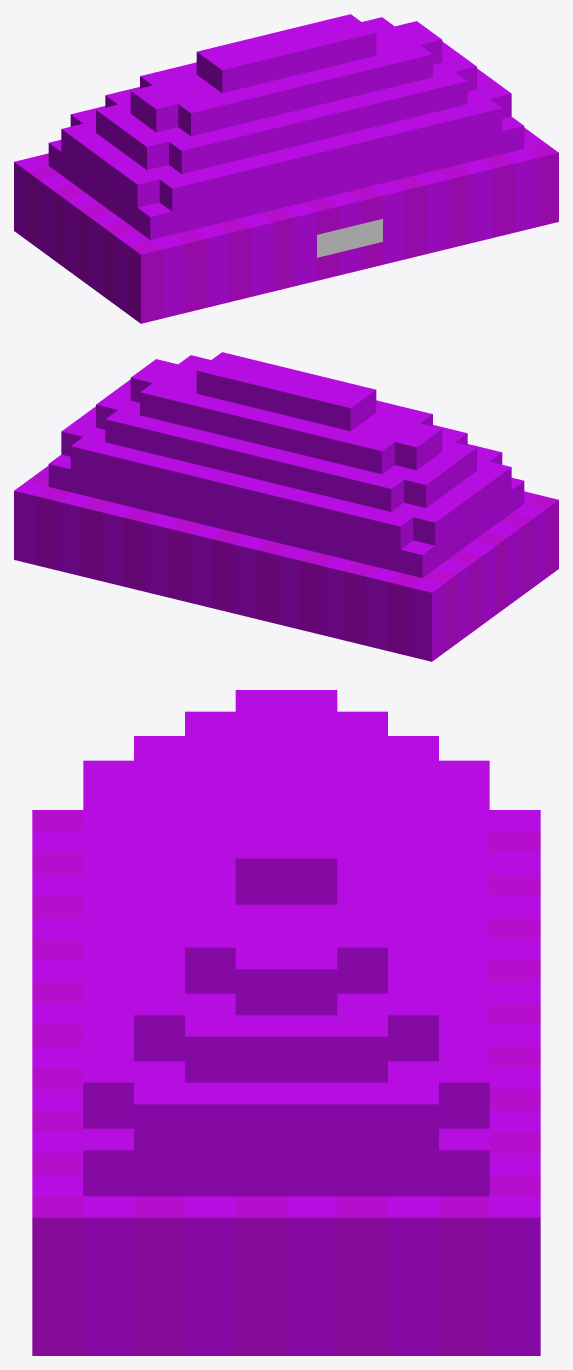
File: accessories_head_beanie.glb
The picture shows the model from 3 angles, top to bottom: view 1: azimuth 30°, elevation 25°; view 2: azimuth 150°, elevation 25°; view 3: azimuth 270°, elevation 25°; orthographic projection. The views are drawn at different scales.
Visible parts, largest first — view 1: model_0; view 2: model_0; view 3: model_0.
Part boxes in pixels (x1=…): model_0: x1=14, y1=14, x2=558, y2=323; model_0: x1=14, y1=352, x2=558, y2=661; model_0: x1=32, y1=690, x2=540, y2=1355.
Bounding box in the file's own units: 19 × 8 × 10.
